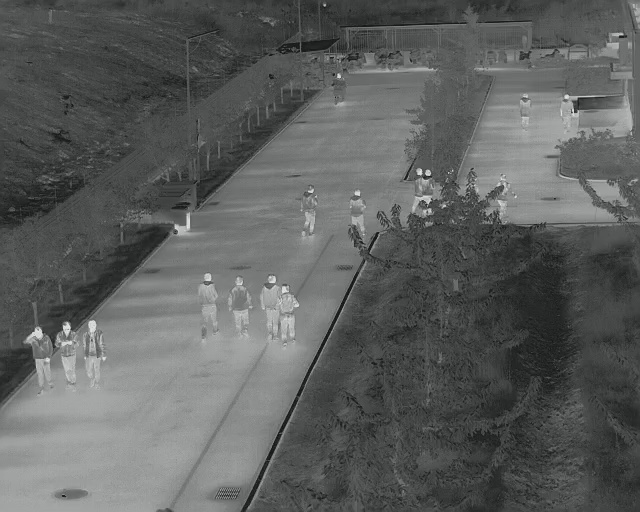NonMotorVehicle: (333, 72, 347, 104)
person: (26, 327, 52, 396), (55, 322, 76, 391), (85, 320, 105, 390), (197, 274, 217, 341), (228, 276, 249, 339), (262, 274, 279, 342), (494, 174, 517, 221), (280, 284, 296, 346), (349, 188, 367, 235), (303, 185, 318, 238), (559, 94, 574, 133), (419, 168, 434, 206), (411, 168, 422, 217), (521, 93, 530, 134)
